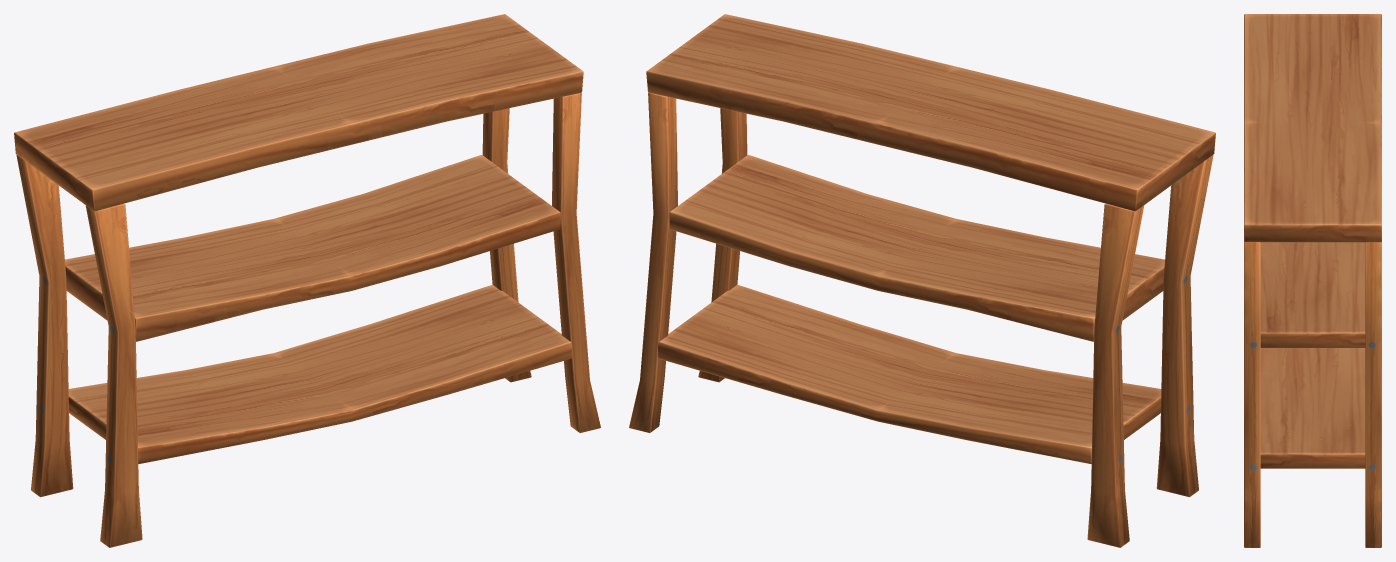
The model's file is BarrelStands01_3.FBX.
3 renders of one model, left to right at view 1: azimuth 30°, elevation 25°; view 2: azimuth 150°, elevation 25°; view 3: azimuth 270°, elevation 25°, orthographic. The views are drawn at different scales.
Parts seen in each view (by area): view 1: BarrelStands01_3; view 2: BarrelStands01_3; view 3: BarrelStands01_3.
Boxes of the visible parts, x1,y1,x2,y2 form: BarrelStands01_3: (14, 14, 600, 547); BarrelStands01_3: (629, 14, 1215, 547); BarrelStands01_3: (1244, 14, 1381, 547).
Size of what is drawn, in the model's own units: 3.18 by 2.18 by 0.8531.
